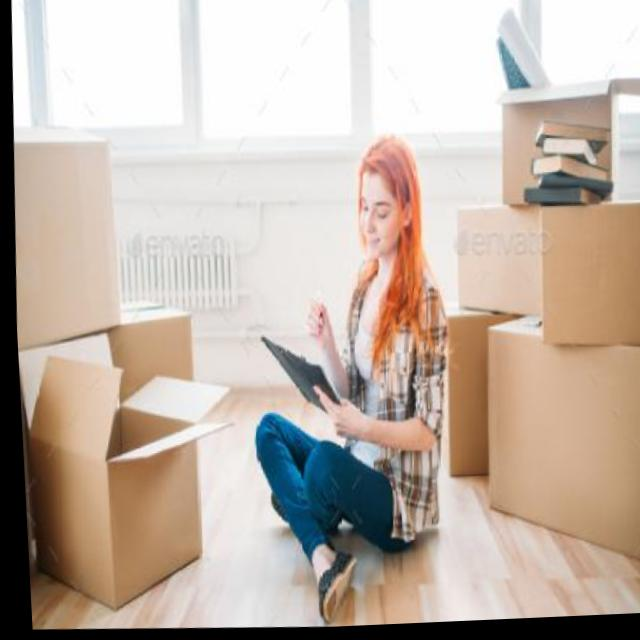box: (14, 339, 242, 623), (468, 311, 640, 595), (4, 99, 135, 384), (482, 85, 638, 242), (505, 185, 640, 362), (105, 262, 202, 431), (432, 294, 503, 500), (441, 187, 534, 340)
